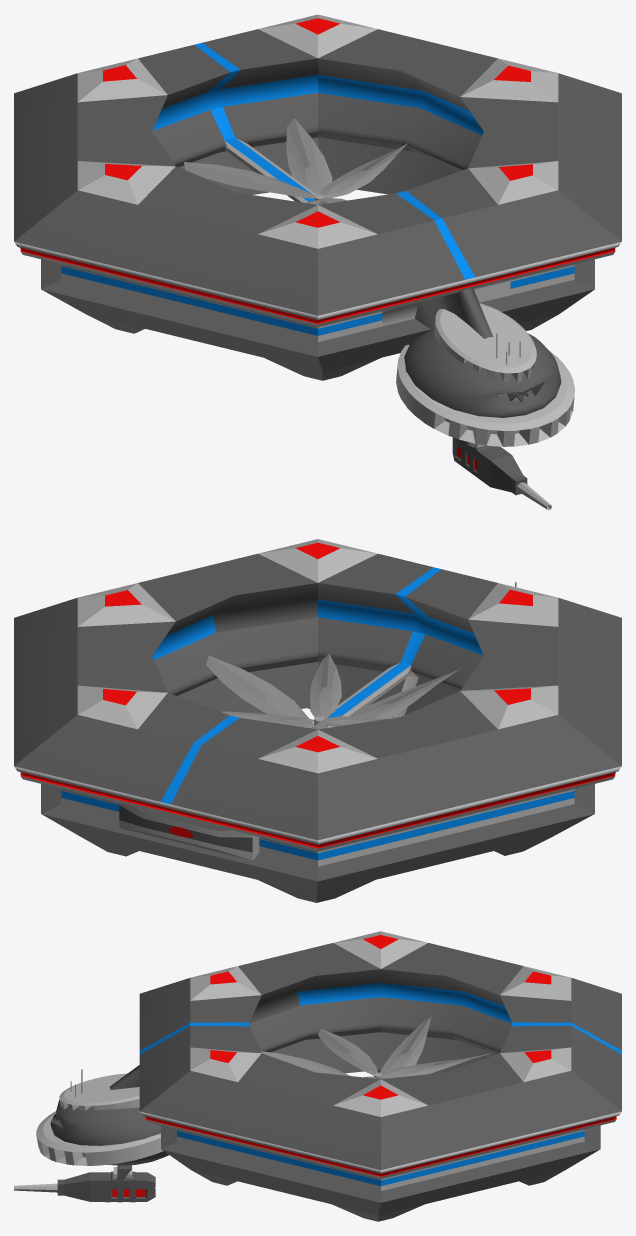
File: DAVE_V1.fbx
The picture shows the model from 3 angles, top to bottom: view 1: azimuth 30°, elevation 25°; view 2: azimuth 150°, elevation 25°; view 3: azimuth 270°, elevation 25°; orthographic projection. The views are drawn at different scales.
Visible parts, largest first — view 1: pCylinder13; view 2: pCylinder13; view 3: pCylinder13.
Part boxes in pixels (x1,y1,x2,y2): pCylinder13: [14, 14, 621, 510]; pCylinder13: [14, 539, 621, 902]; pCylinder13: [14, 931, 621, 1221].
Bounding box in the file's own units: 7.9 × 2.84 × 8.62.
